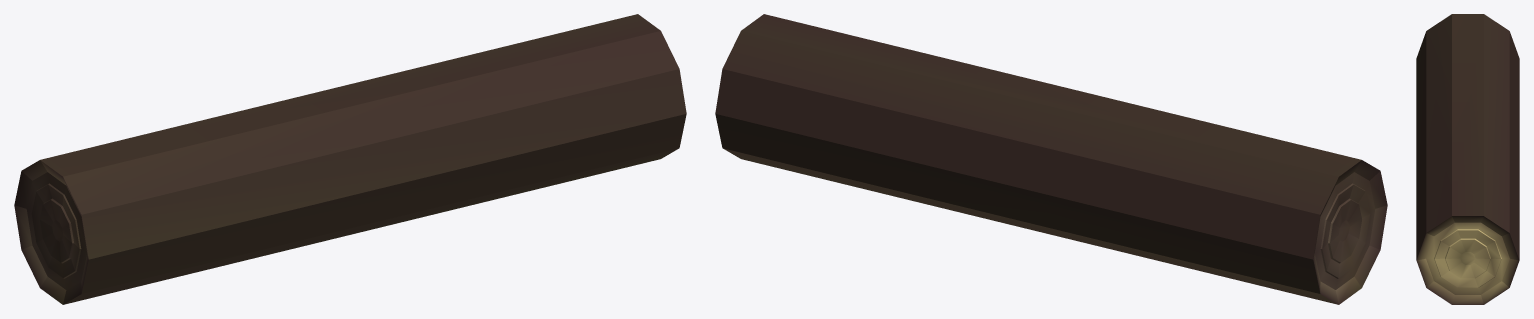
Rendered from f6 wood v3.fbx.
3 views of the same model, side by side, from view 1: azimuth 30°, elevation 25°; view 2: azimuth 150°, elevation 25°; view 3: azimuth 270°, elevation 25° (orthographic). The views are drawn at different scales.
Parts seen in each view (by area): view 1: Circle; view 2: Circle; view 3: Circle.
Boxes of the visible parts, left/top/right/bottom form: Circle: left=14, top=14, right=686, bottom=304; Circle: left=715, top=14, right=1387, bottom=304; Circle: left=1416, top=14, right=1519, bottom=304.
Size of the model in its own units: 928 by 190 by 200.
